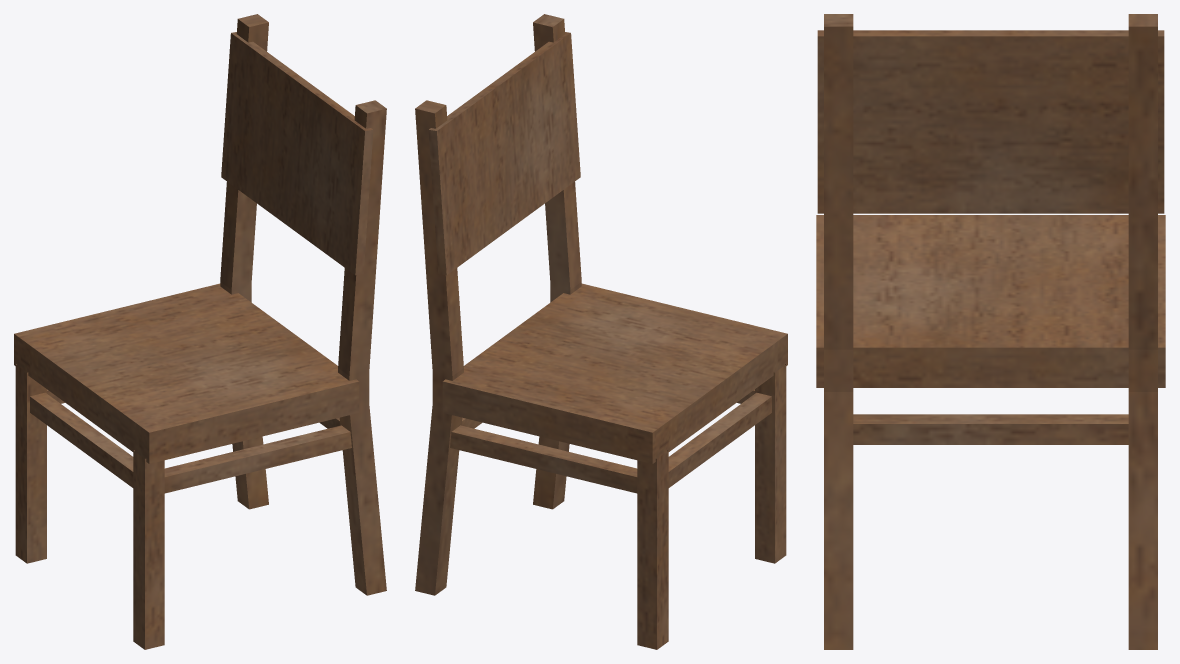
File: Chair.fbx
3 renders of one model, left to right at view 1: azimuth 30°, elevation 25°; view 2: azimuth 150°, elevation 25°; view 3: azimuth 270°, elevation 25°, orthographic. The views are drawn at different scales.
Visible parts, largest first — view 1: Chair; view 2: Chair; view 3: Chair.
Boxes of the visible parts, left/top/right/bottom form: Chair: left=14, top=14, right=386, bottom=649; Chair: left=415, top=14, right=787, bottom=649; Chair: left=816, top=14, right=1165, bottom=649.
Size of the model in its own units: 230 by 439 by 223.
